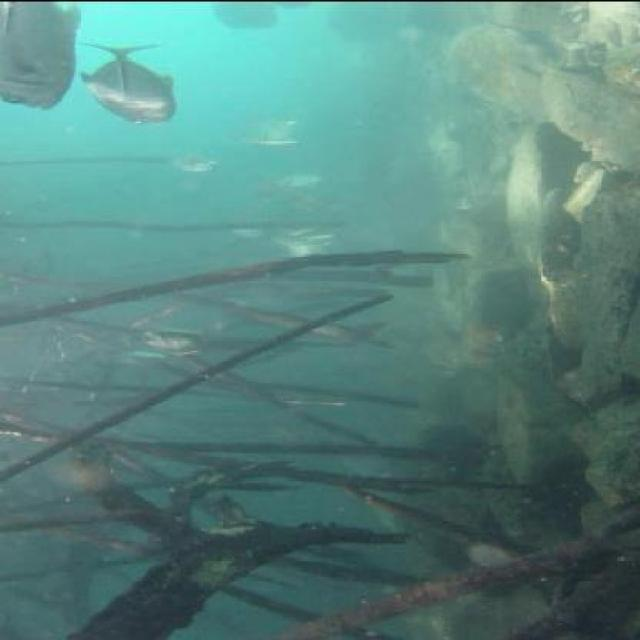Caranx_sexfasciatus_juvenile: (1, 0, 87, 112), (71, 43, 191, 122), (255, 213, 331, 249), (240, 115, 318, 148), (124, 325, 213, 353), (85, 343, 173, 369), (208, 1, 292, 27), (170, 148, 228, 180), (271, 239, 337, 267), (262, 166, 324, 194)
